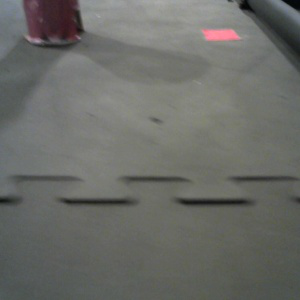Middle: (22, 1, 85, 46)
